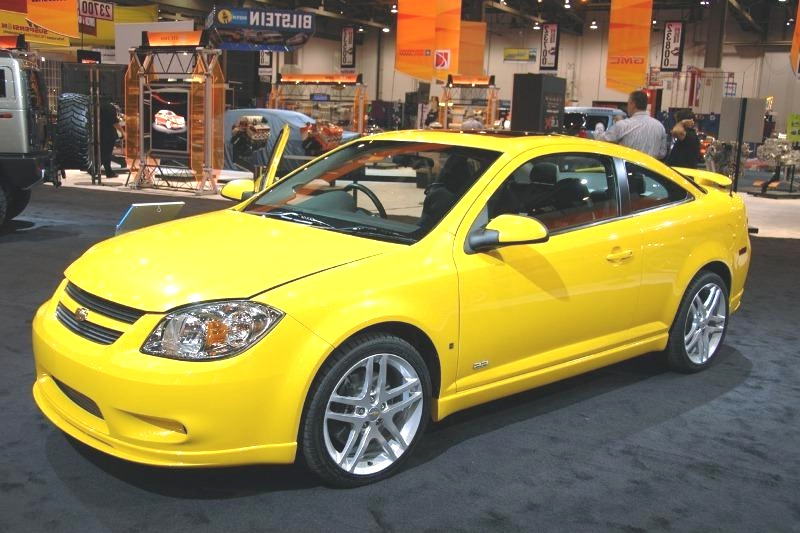car: (18, 105, 761, 506)
